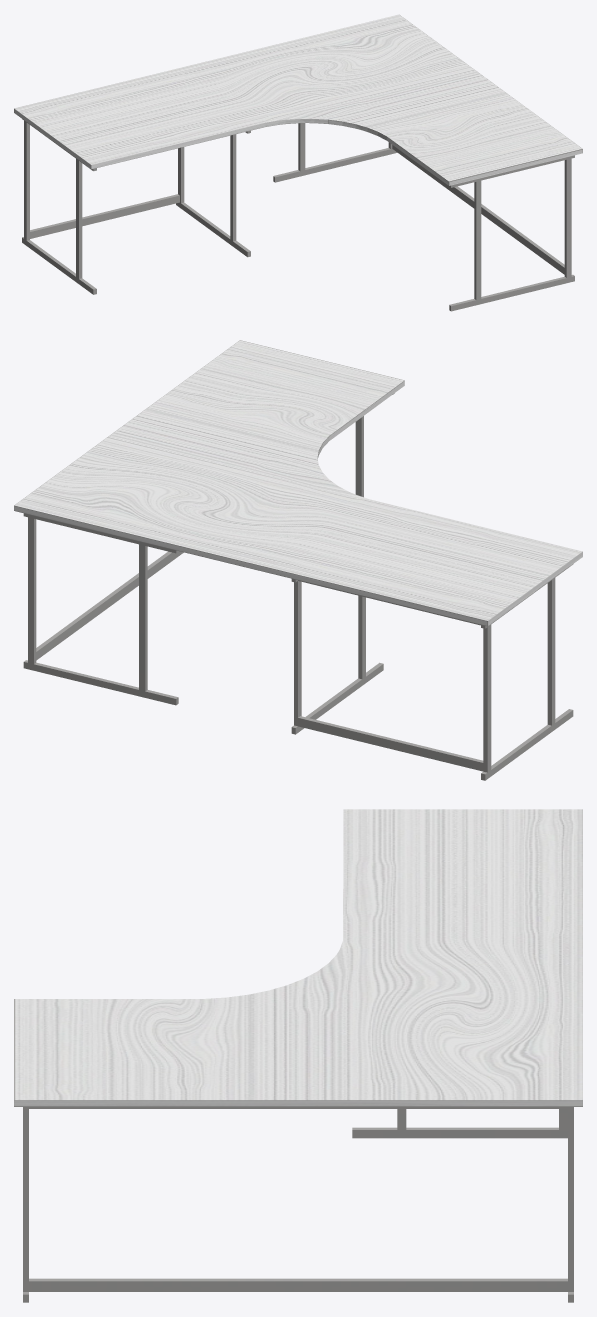
The picture shows the model from 3 angles, top to bottom: view 1: azimuth 30°, elevation 25°; view 2: azimuth 150°, elevation 25°; view 3: azimuth 270°, elevation 25°; orthographic projection. The views are drawn at different scales.
Visible parts, largest first — view 1: Stul_V v3; view 2: Stul_V v3; view 3: Stul_V v3.
Boxes of the visible parts, left/top/right/bottom form: Stul_V v3: left=14, top=14, right=582, bottom=311; Stul_V v3: left=14, top=340, right=582, bottom=780; Stul_V v3: left=14, top=809, right=582, bottom=1302.
Bounding box in the file's own units: 2.3 × 1.9 × 0.76.
